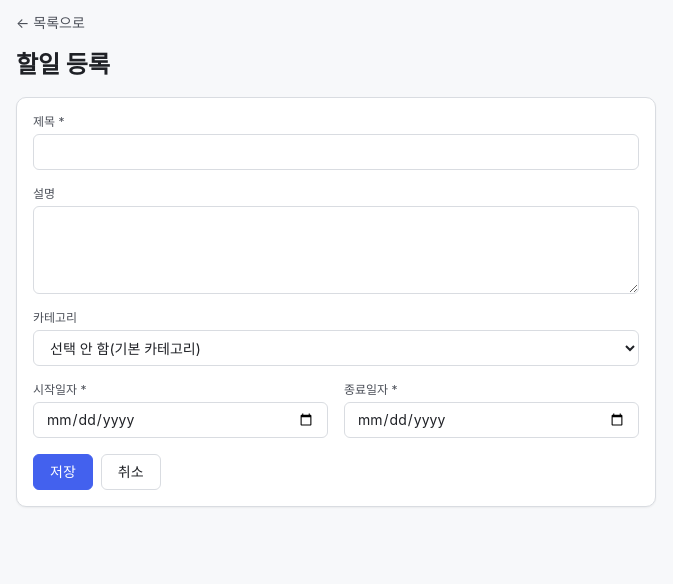
Scenario: TodoCreatePage › 제출 실패 시 이동하지 않는다
This screenshot has width=673, height=584.
In the field labelled "제목 *": [336, 152] box [33,134,639,170], type "테스트 할일"
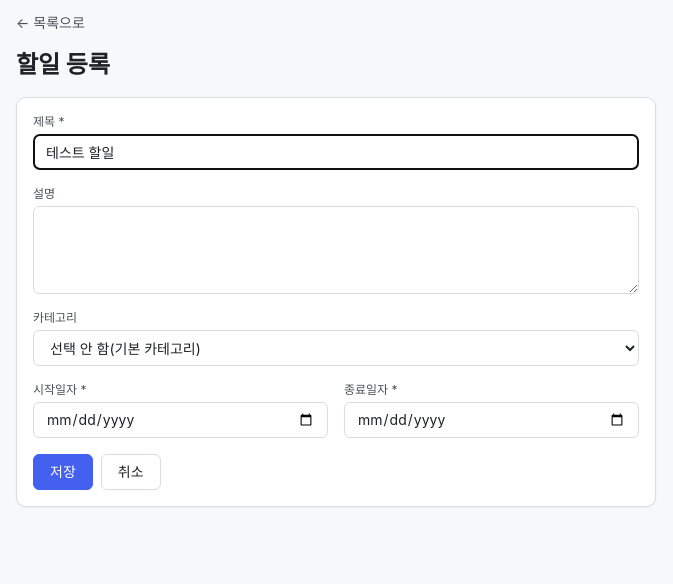
In the date field labelled "시작일자 *": [180, 420] box [33,402,328,438], type "2026-08-01"
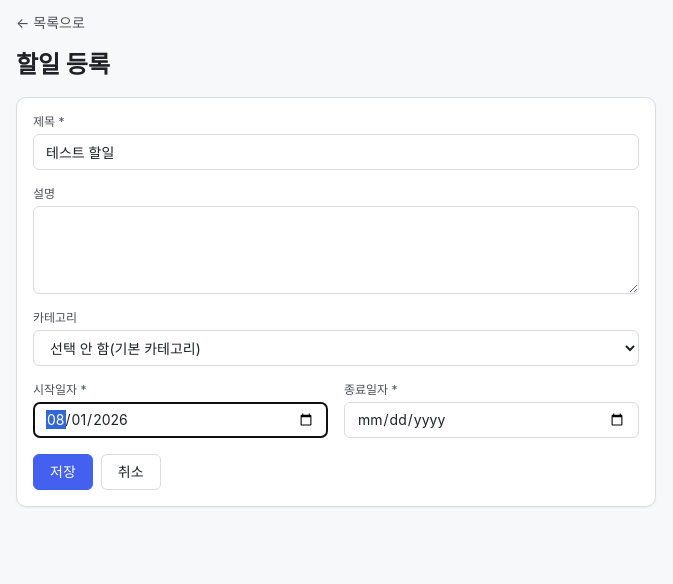
In the date field labelled "종료일자 *": [492, 420] box [344,402,639,438], type "2026-08-05"
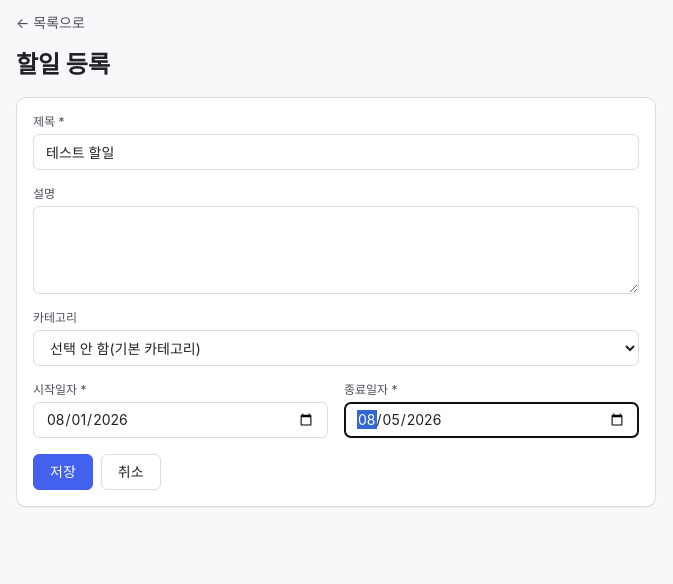
Click the button "저장": [63, 472] box [33,454,93,490]
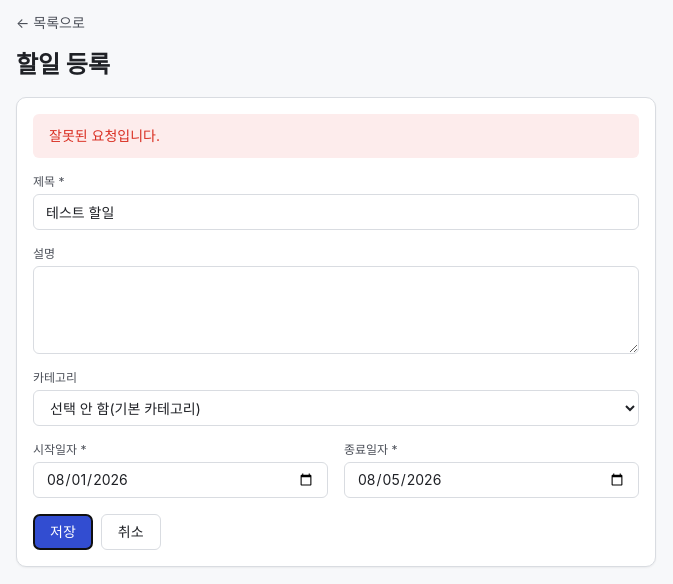
Check: the text "잘못된 요청입니다." is shown, box [33,114,639,158]
